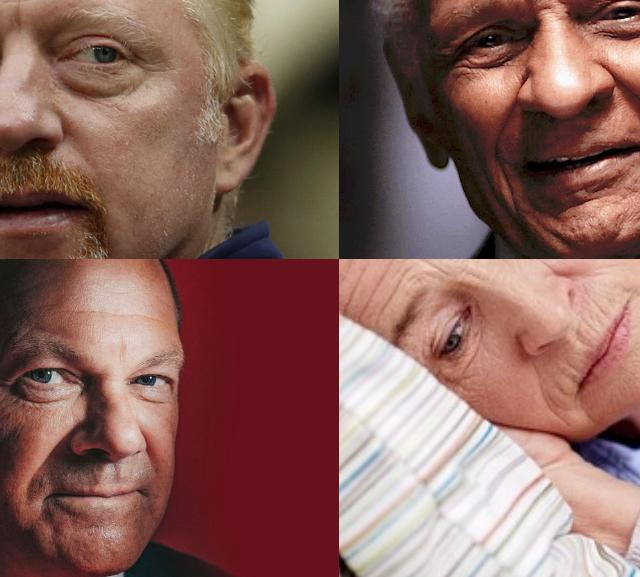chin: (562, 192, 608, 214)
crows_feet: (136, 51, 176, 79), (451, 57, 479, 76), (0, 369, 11, 399)
forehead: (345, 259, 401, 311), (72, 306, 154, 324)
frown_line: (417, 259, 455, 279), (12, 2, 28, 36), (531, 0, 565, 14)
gummy_smile: (494, 93, 518, 151), (39, 426, 73, 466), (615, 73, 640, 121), (140, 432, 158, 472)
masseter: (496, 173, 522, 215)
sad_smile: (537, 395, 573, 431), (621, 281, 640, 297)
smoker_lines: (545, 353, 579, 395), (579, 295, 609, 339)
